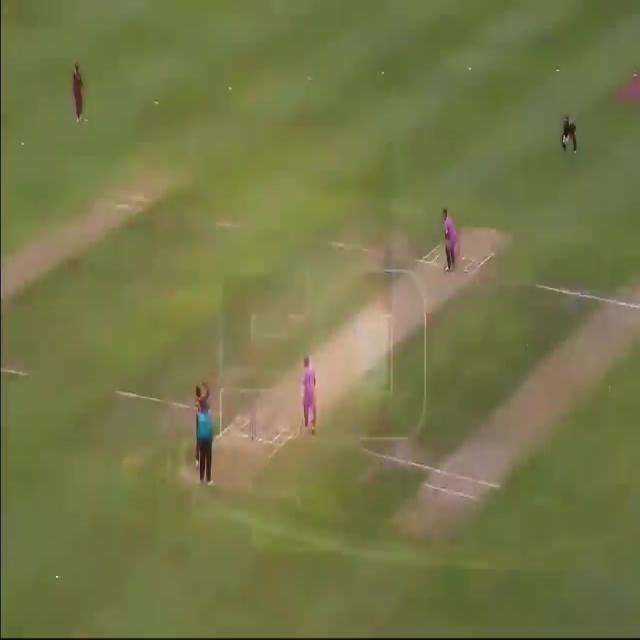Ball: (429, 203, 468, 273), (296, 353, 324, 435)
Fielder: (67, 58, 86, 126), (558, 112, 582, 159)
Umpire: (194, 394, 218, 488)
